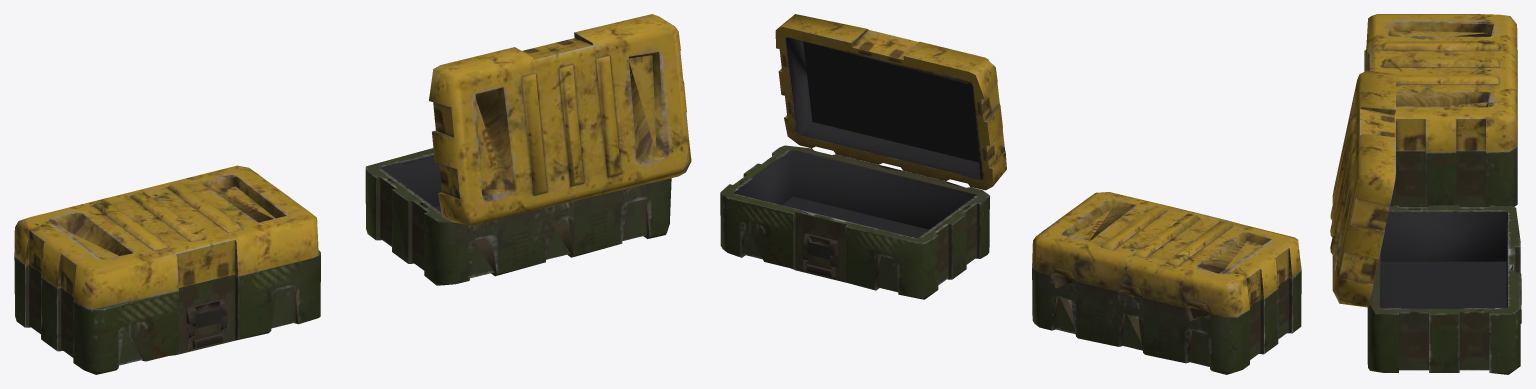
Rendered from container-40.lod0.glb.
3 views of the same model, side by side, from view 1: azimuth 30°, elevation 25°; view 2: azimuth 150°, elevation 25°; view 3: azimuth 270°, elevation 25° (orthographic). The views are drawn at different scales.
Visible parts, largest first — view 1: Case_Texture_0; view 2: Case_Texture_0; view 3: Case_Texture_0.
Boxes of the visible parts, left/top/right/bottom form: Case_Texture_0: left=14, top=14, right=691, bottom=374; Case_Texture_0: left=720, top=14, right=1301, bottom=374; Case_Texture_0: left=1330, top=14, right=1521, bottom=374.
Bounding box in the file's own units: 11.97 × 4.16 × 3.58.
1 material, 1 textured.
